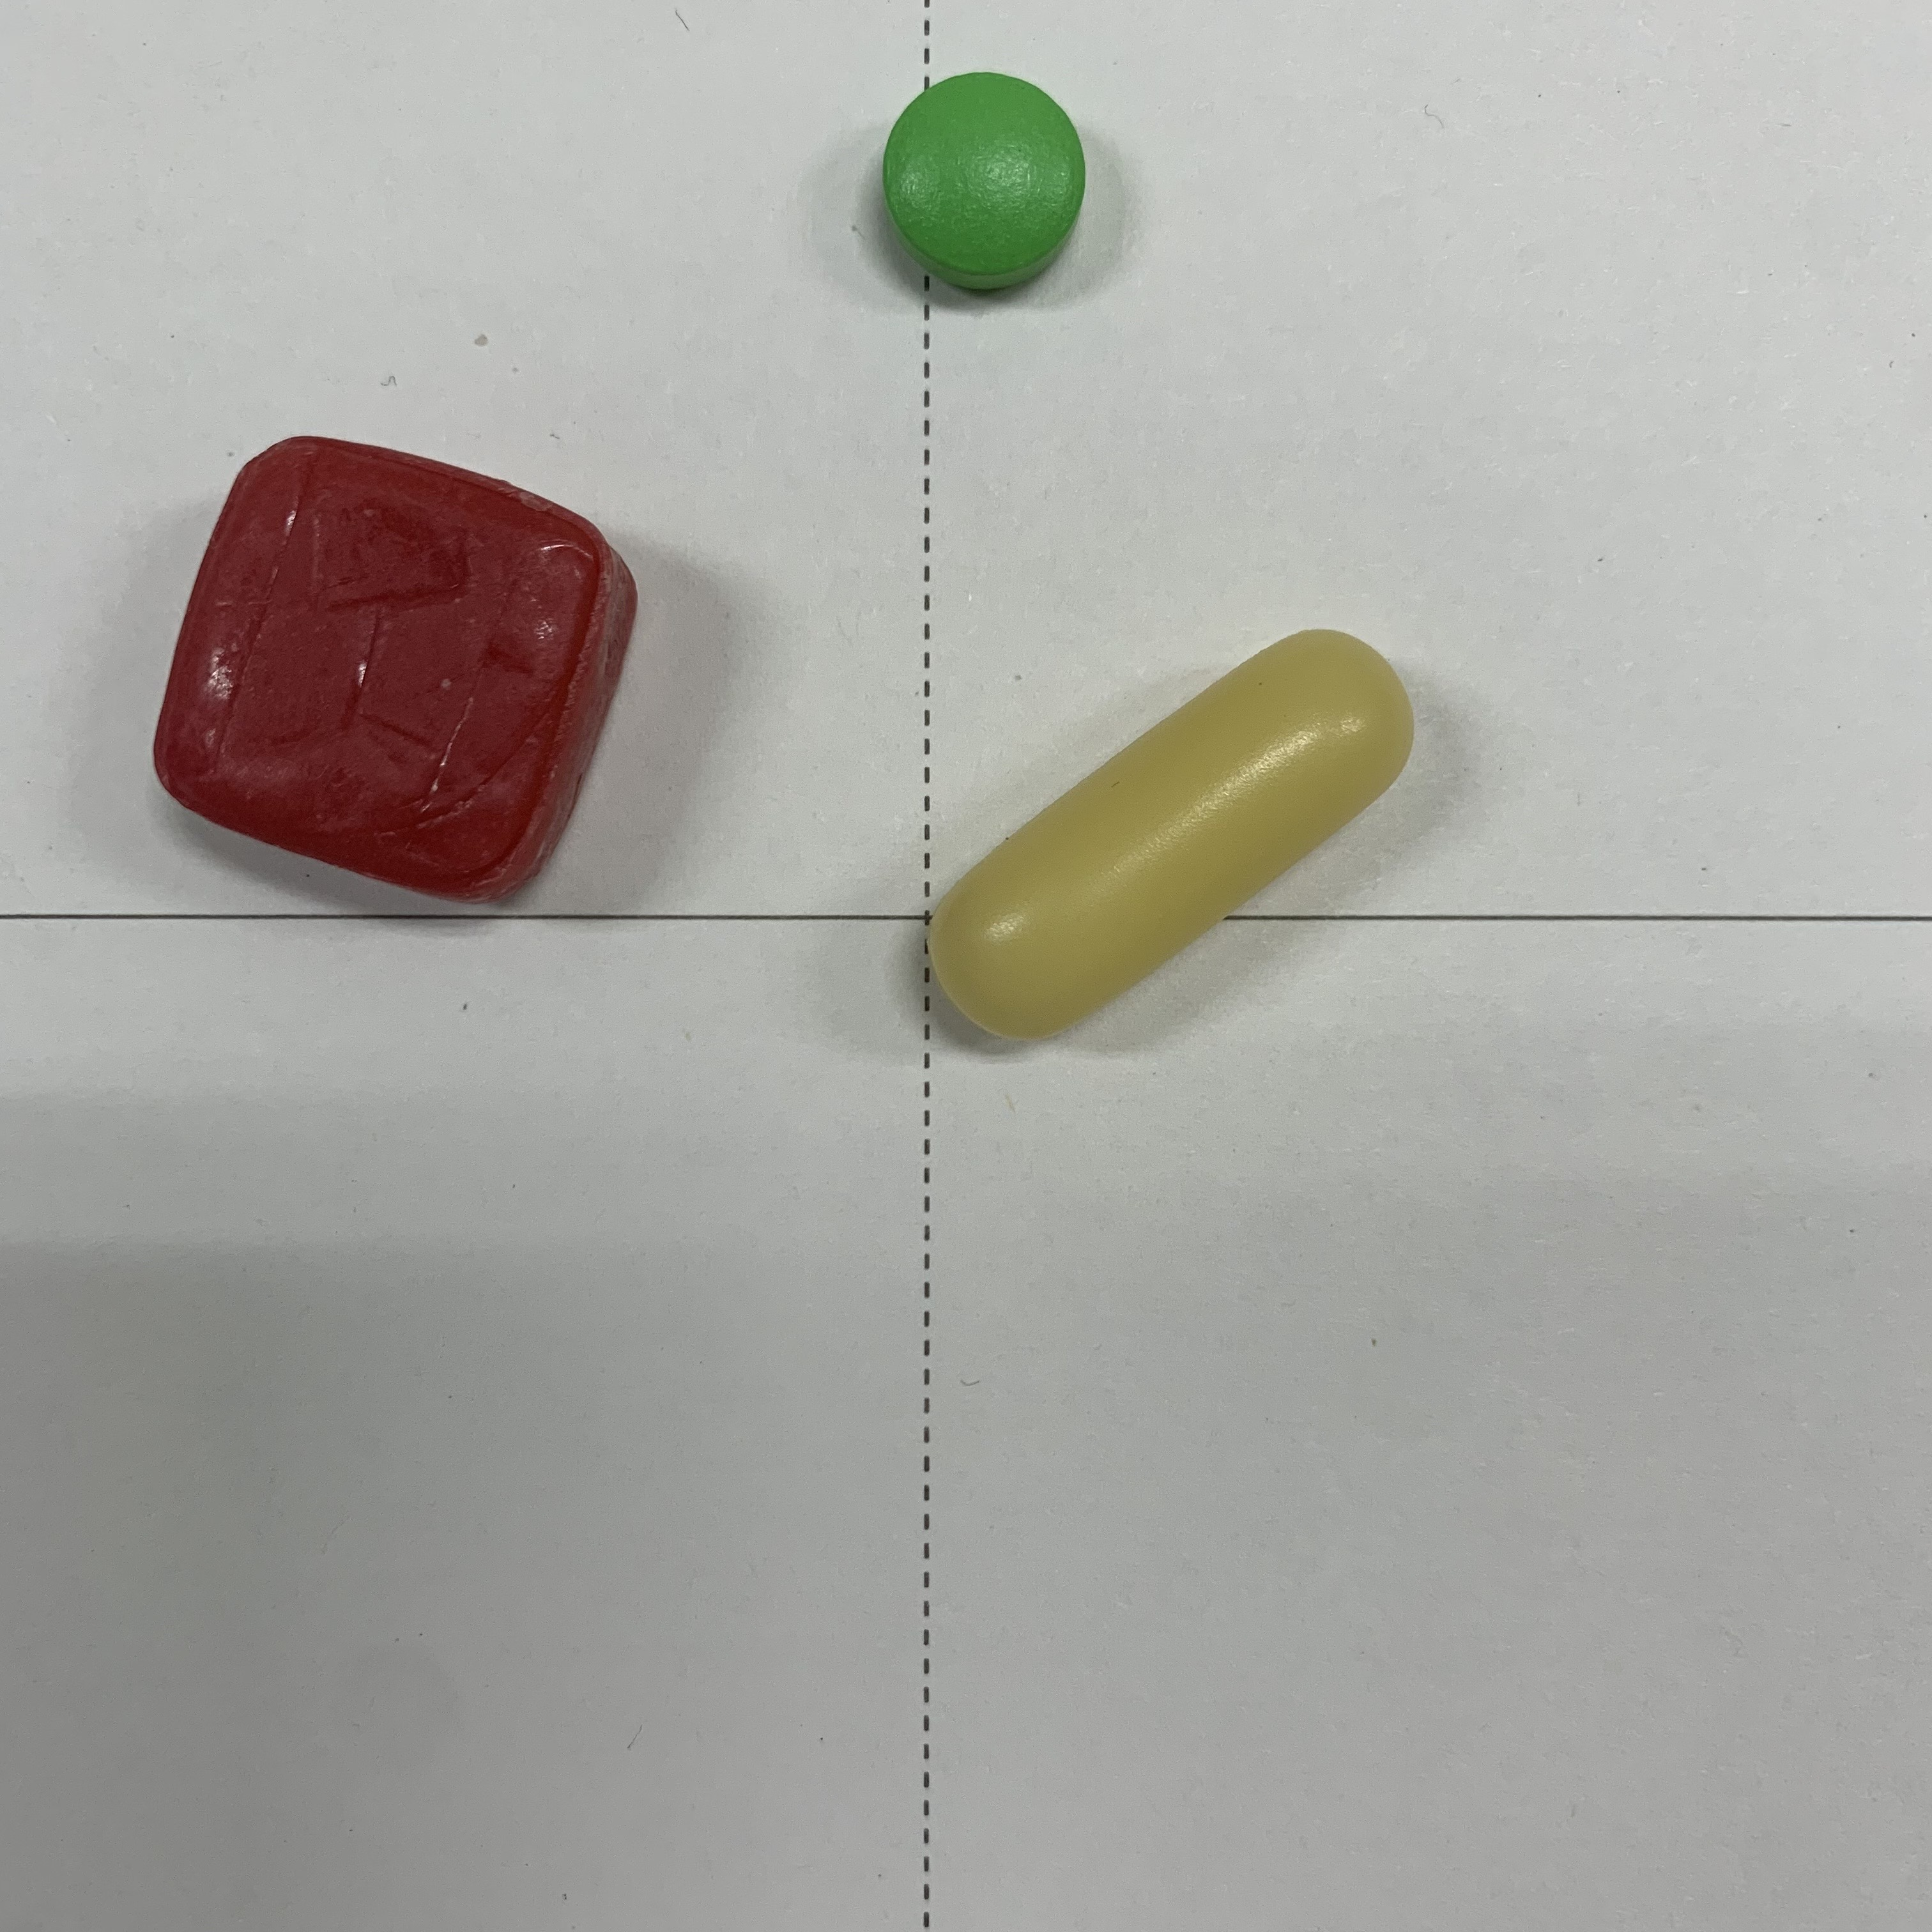cir_drug: (835, 55, 1148, 306)
rec_drug: (892, 610, 1447, 1044)
sqr_drug: (131, 428, 667, 909)
